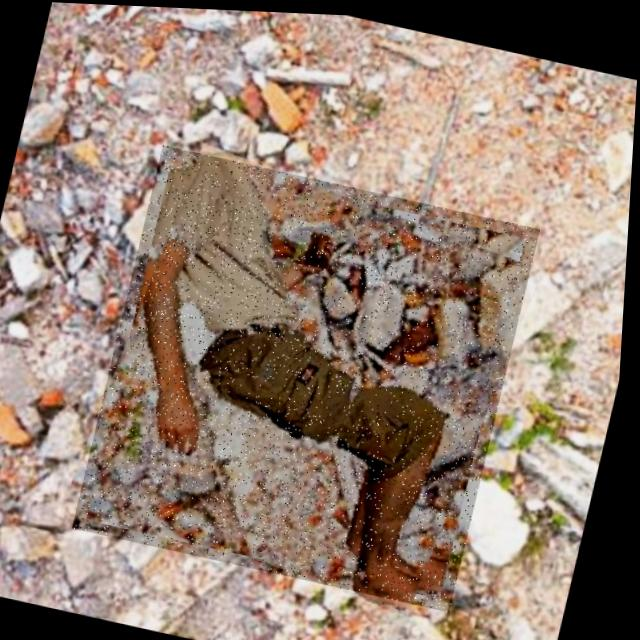Person in Rubble: (75, 142, 545, 610)
